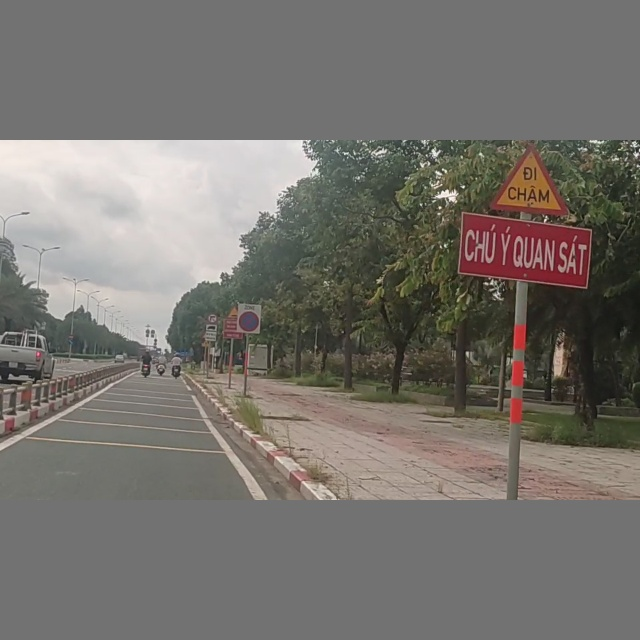P.123b: (206, 313, 219, 324)
P.130: (236, 303, 262, 334)
S.505a*Xe tai: (205, 324, 217, 342)
W.245a: (488, 146, 573, 219)
